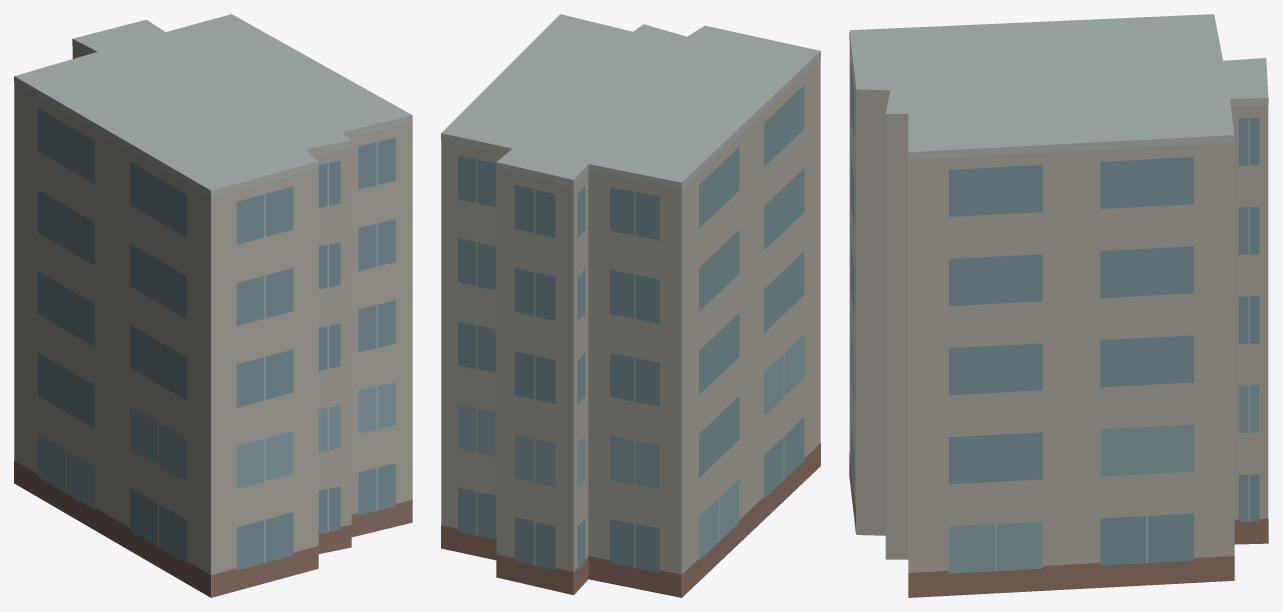
Rendered from survey-upis-32508821.glb.
The picture shows the model from 3 angles, left to right: view 1: azimuth 30°, elevation 25°; view 2: azimuth 150°, elevation 25°; view 3: azimuth 270°, elevation 25°; orthographic projection. The views are drawn at different scales.
Visible parts, largest first — view 1: survey-upis-32508821.tmp; view 2: survey-upis-32508821.tmp; view 3: survey-upis-32508821.tmp.
Boxes of the visible parts, x1,y1,x2,y2 form: survey-upis-32508821.tmp: (14,14,412,597); survey-upis-32508821.tmp: (441,14,820,597); survey-upis-32508821.tmp: (849,14,1268,597).
Bounding box in the file's own units: 9.69 × 14.55 × 12.41.
